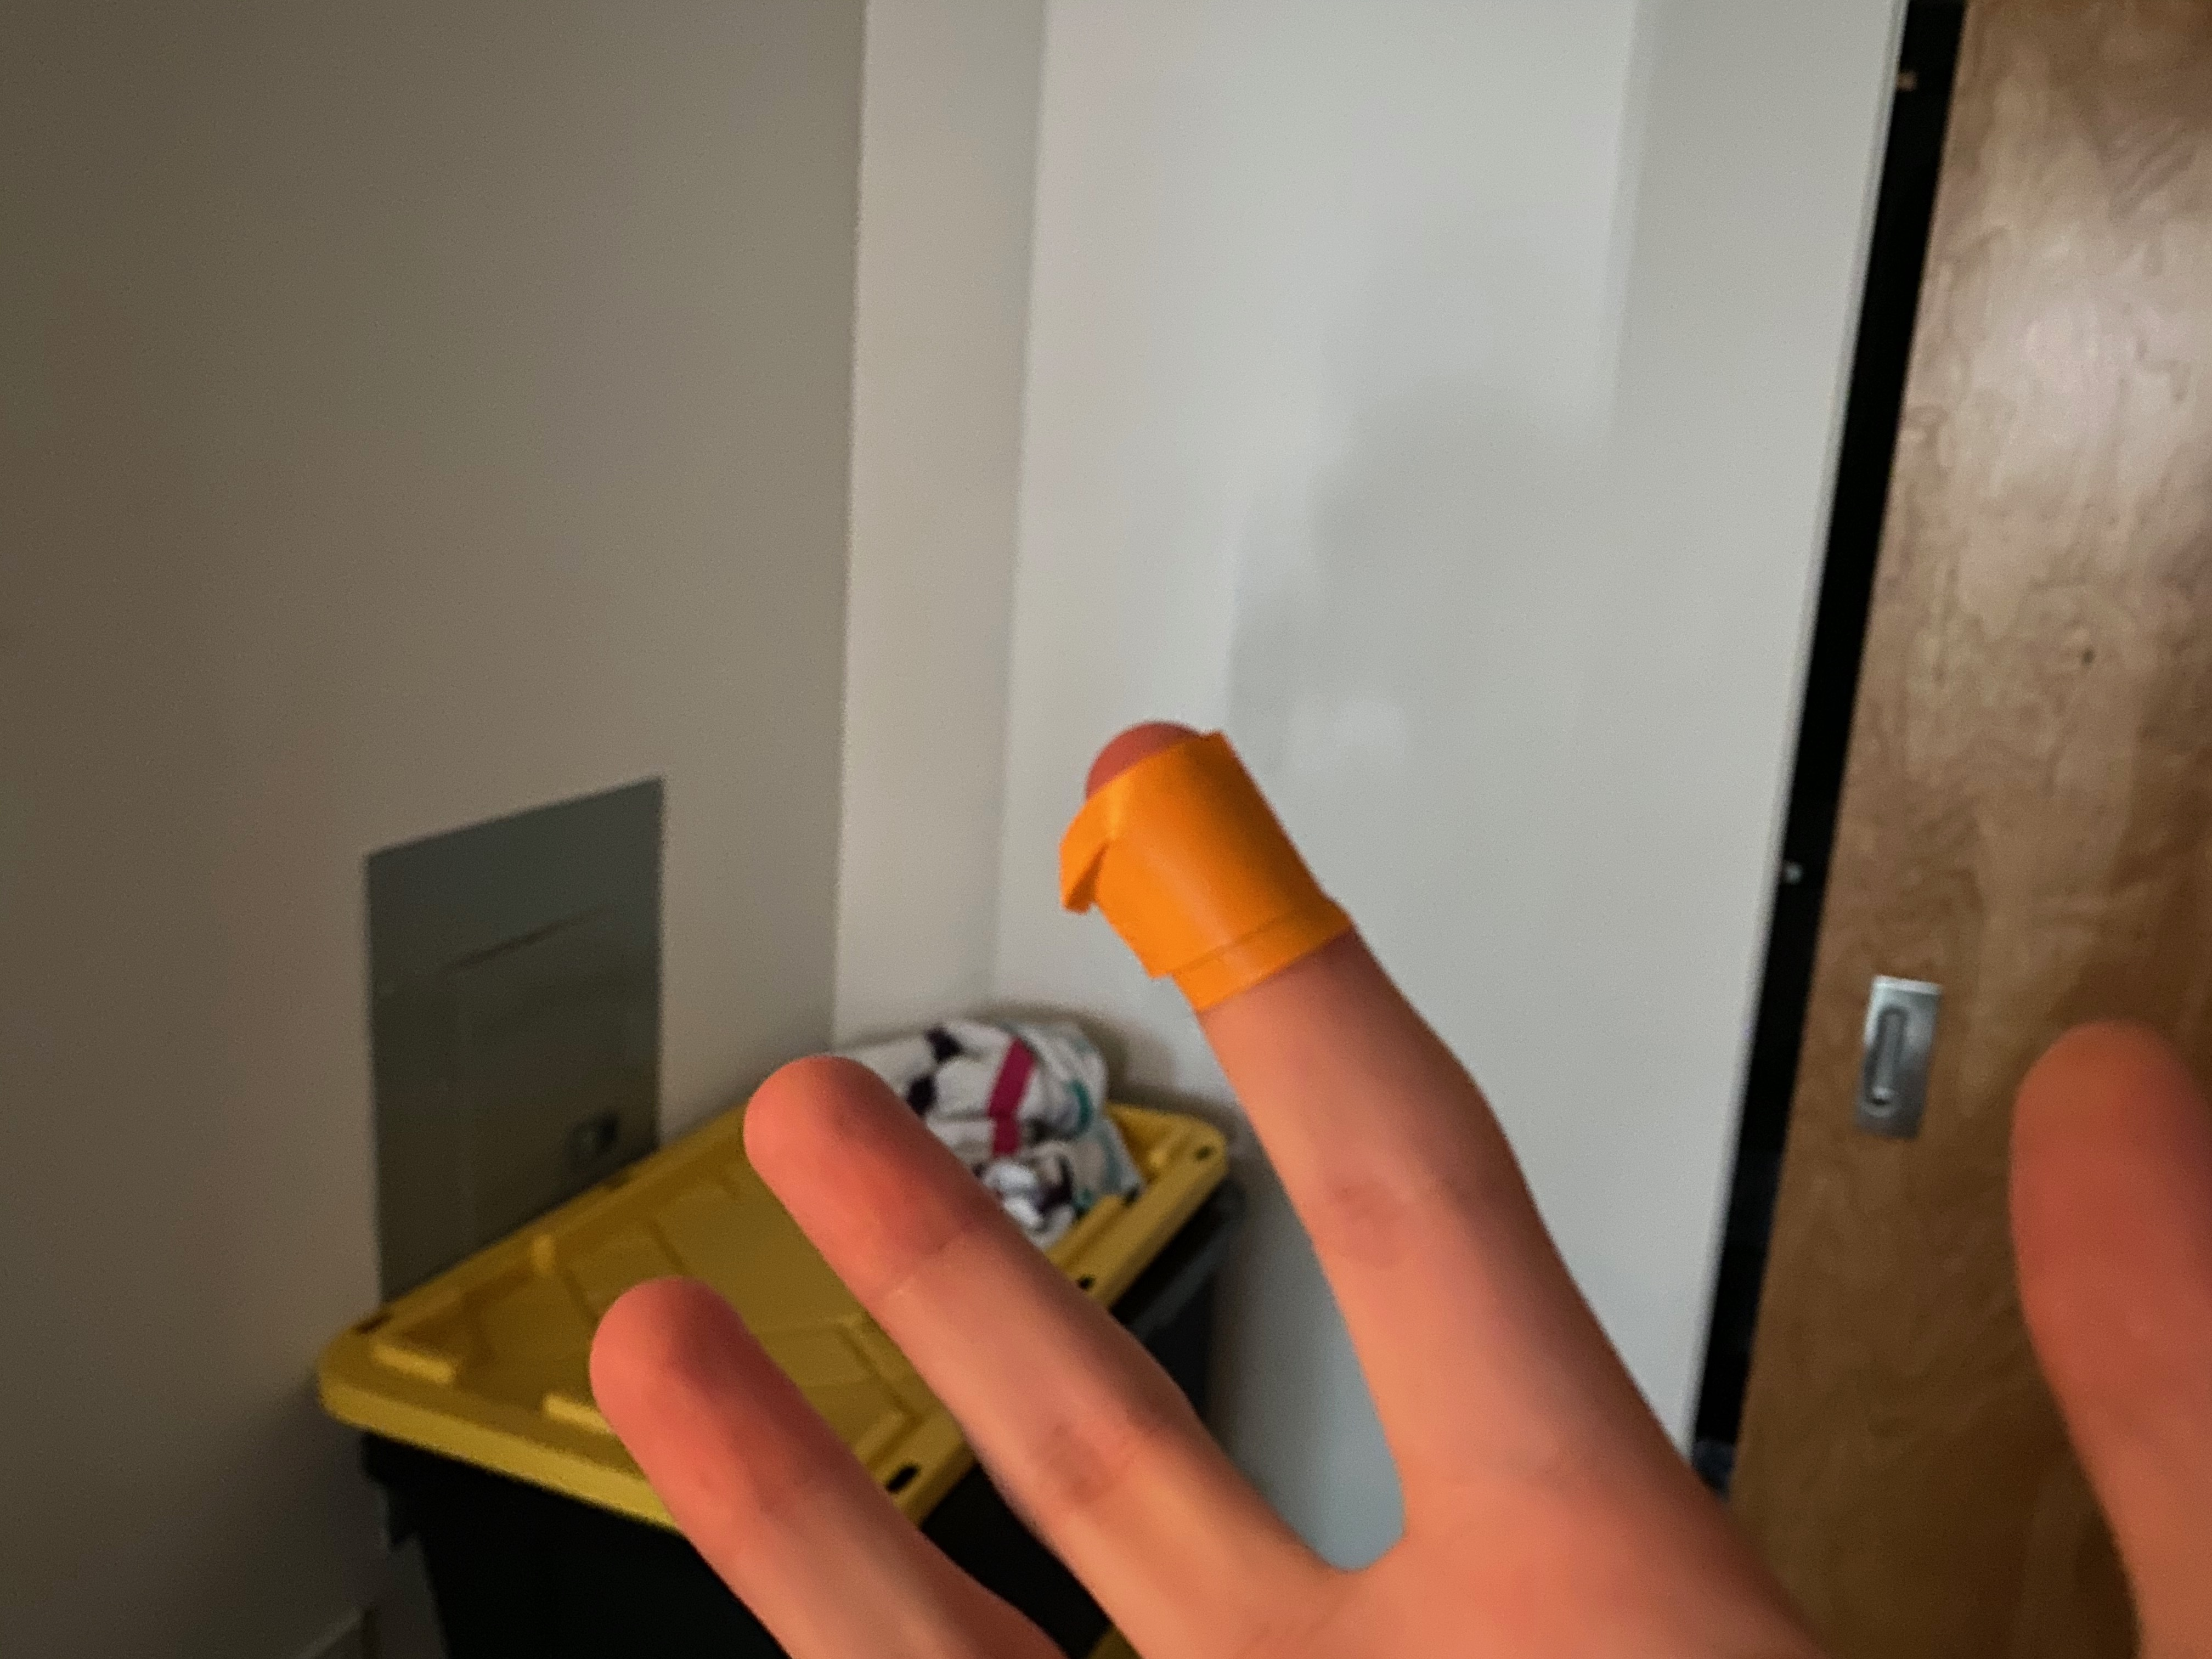fingertip: (991, 701, 1392, 1032)
